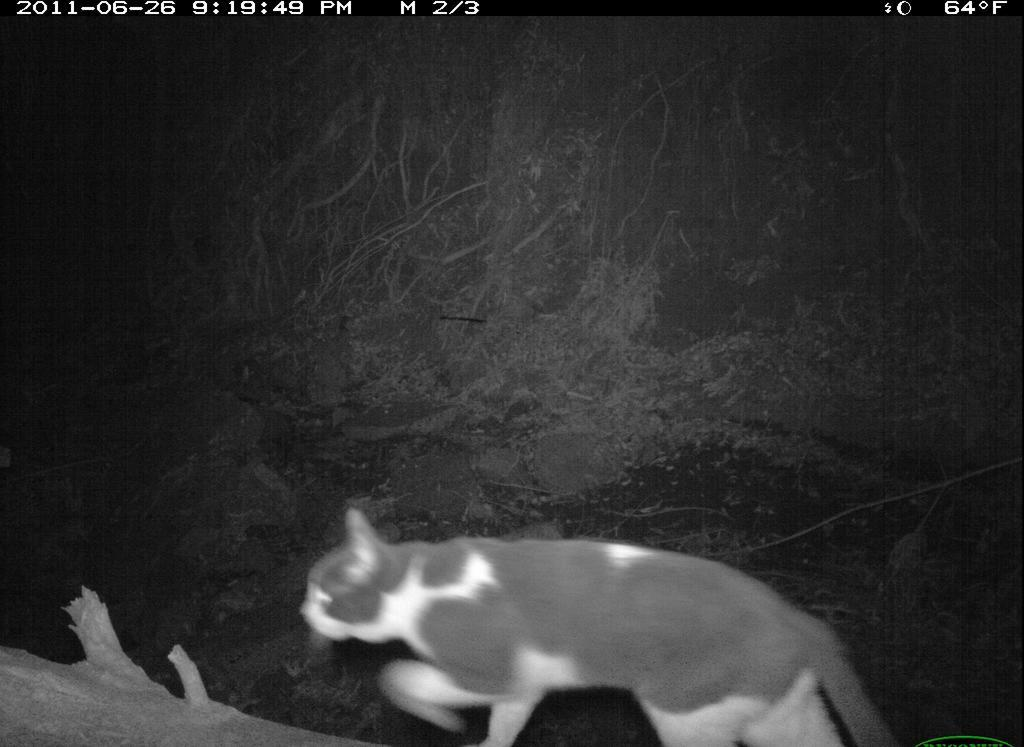cat: (285, 495, 914, 747)
